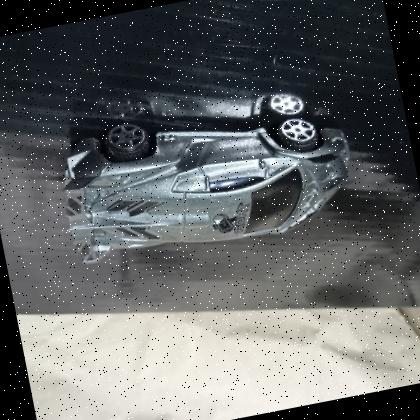Car: (45, 76, 371, 282)
